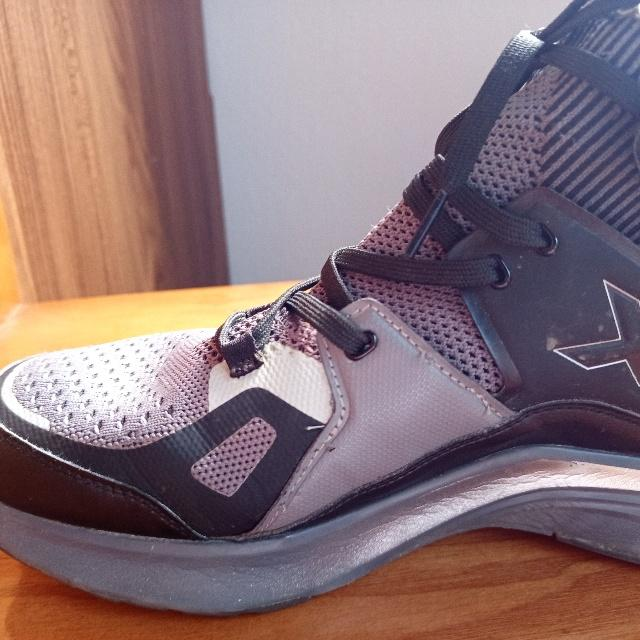broken: (414, 345, 444, 373), (276, 483, 300, 516)
